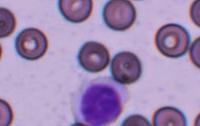L: (70, 77, 127, 126)
